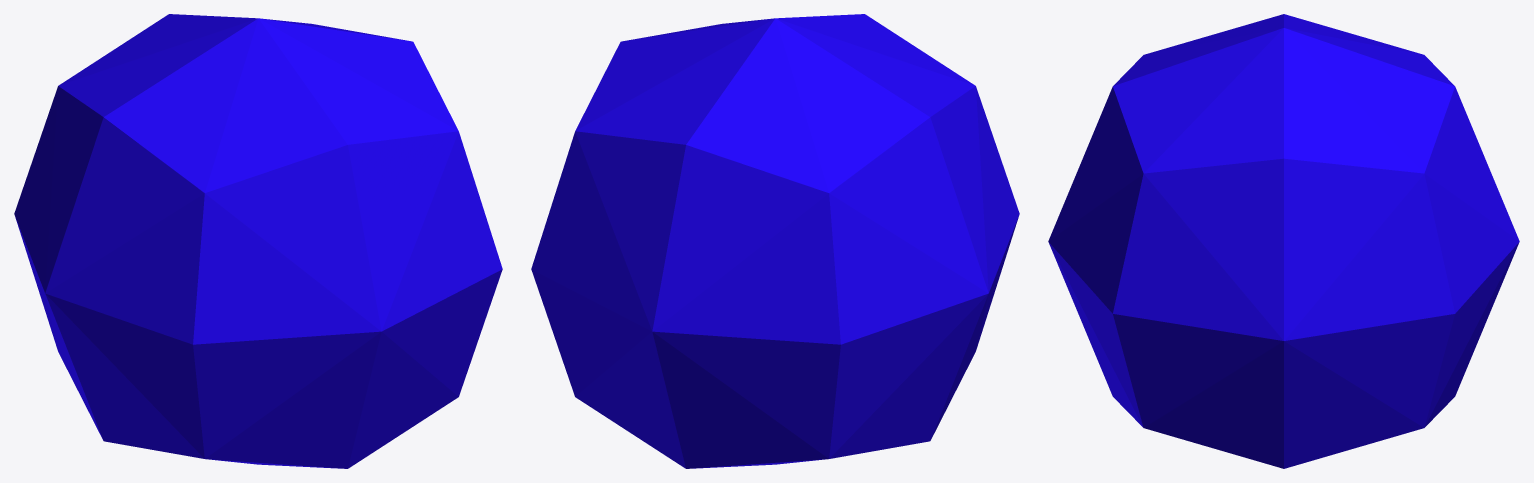
Rendered from enemyBullet.obj.
3 views of the same model, side by side, from view 1: azimuth 30°, elevation 25°; view 2: azimuth 150°, elevation 25°; view 3: azimuth 270°, elevation 25° (orthographic). The views are drawn at different scales.
Parts seen in each view (by area): view 1: Cube; view 2: Cube; view 3: Cube.
Boxes of the visible parts, box(x1,y1,x2,y2) form: Cube: box(14, 14, 502, 468); Cube: box(531, 14, 1019, 468); Cube: box(1048, 14, 1519, 468).
Size of the model in its own units: 1.68 by 1.68 by 1.68.
1 material, 1 textured.
